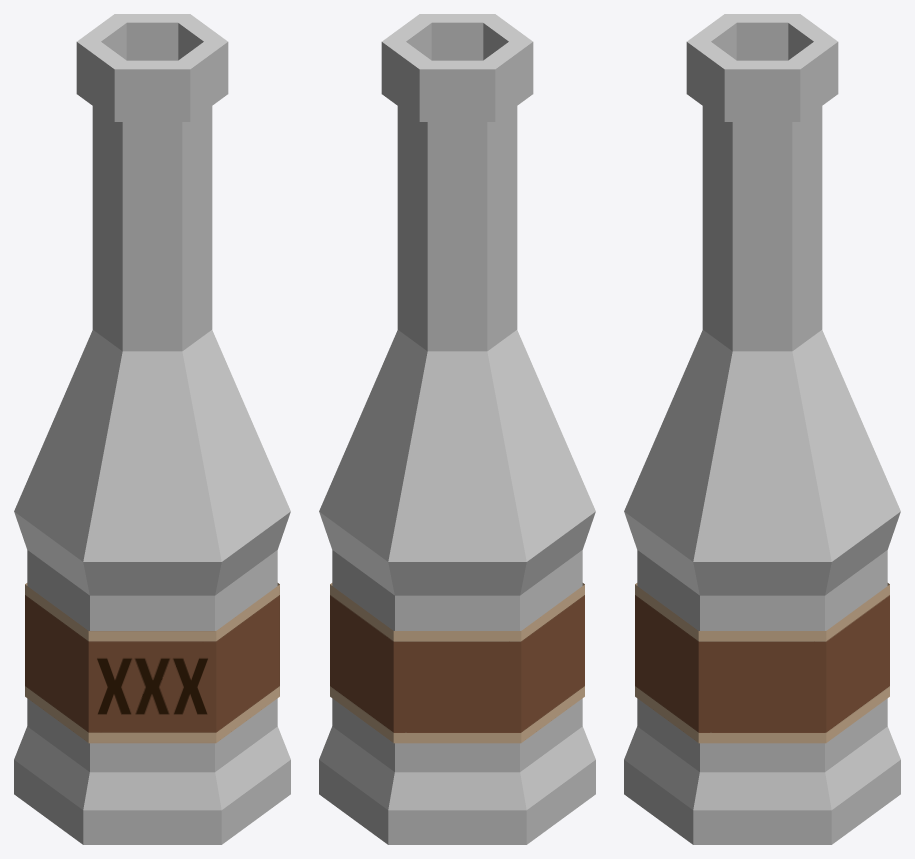
Rendered from bottle.fbx.
3 views of the same model, side by side, from view 1: azimuth 30°, elevation 25°; view 2: azimuth 150°, elevation 25°; view 3: azimuth 270°, elevation 25° (orthographic).
Parts seen in each view (by area): view 1: Cylinder; view 2: Cylinder; view 3: Cylinder.
Part boxes in pixels (box(x1,y1,x2,y2)): Cylinder: box(14, 14, 290, 844); Cylinder: box(319, 14, 595, 844); Cylinder: box(624, 14, 900, 844).
Bounding box in the file's own units: 197 × 681 × 227.
2 materials, 1 textured.
